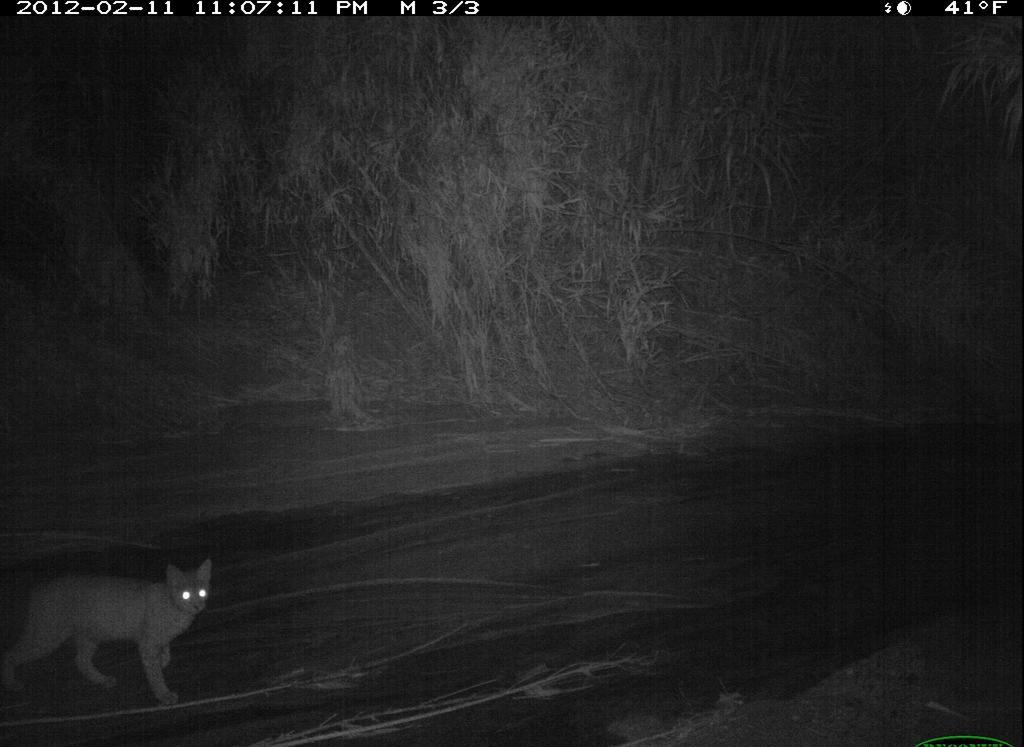bobcat: (11, 553, 233, 724)
